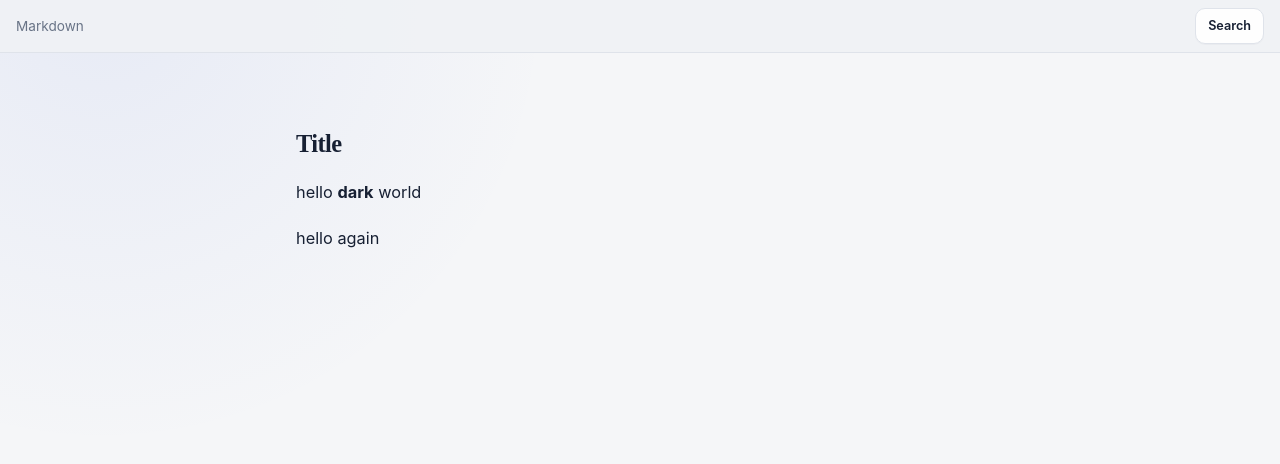
Scenario: MarkdownReader search › counts matches across inline elements and paragraphs
Press f
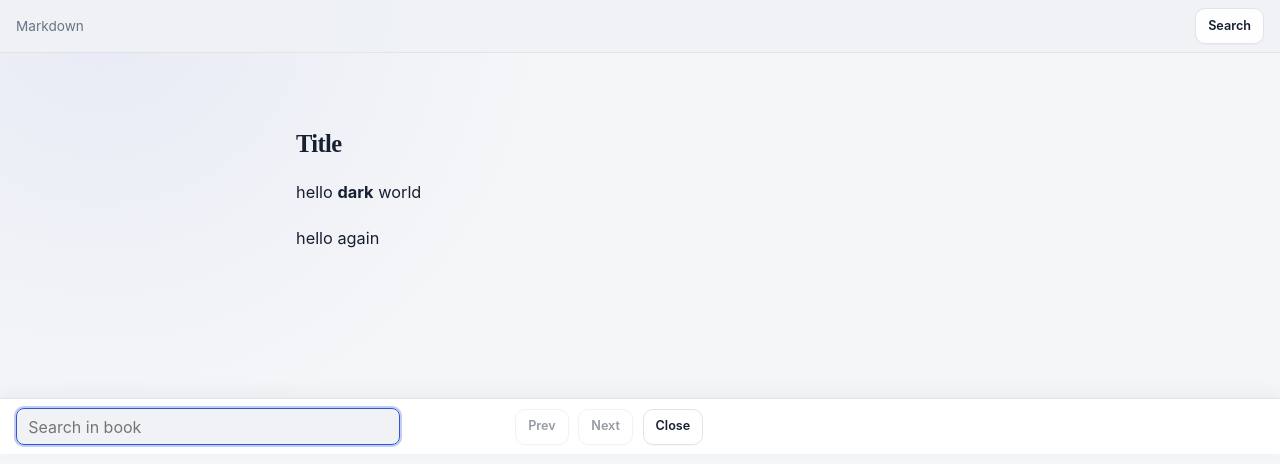
Type "hello" into the search field labelled "Search in book" at point(208, 427), box [16,408,400,445]
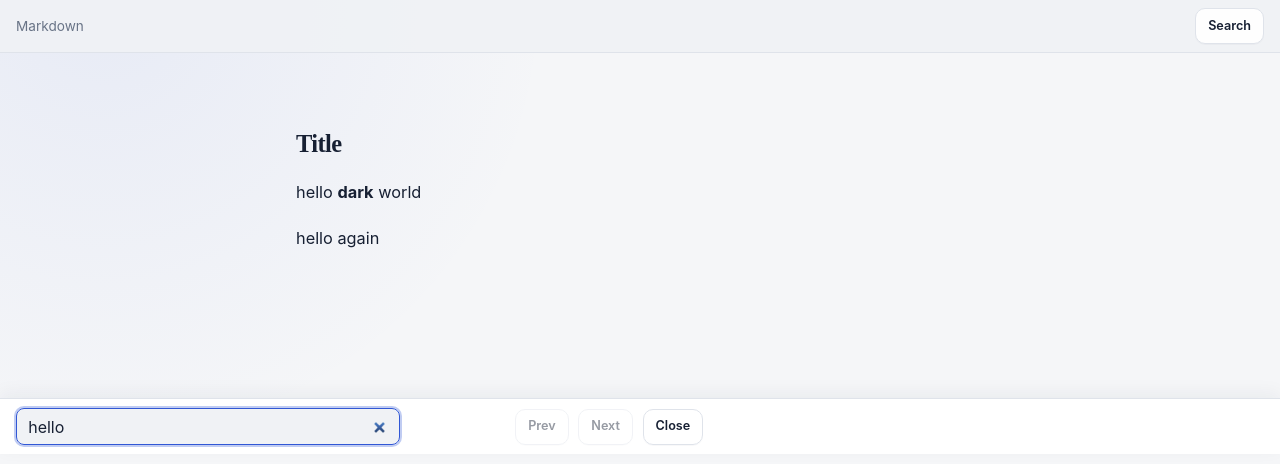
Press Enter in the search field named "Search in book", box [16,408,400,445]
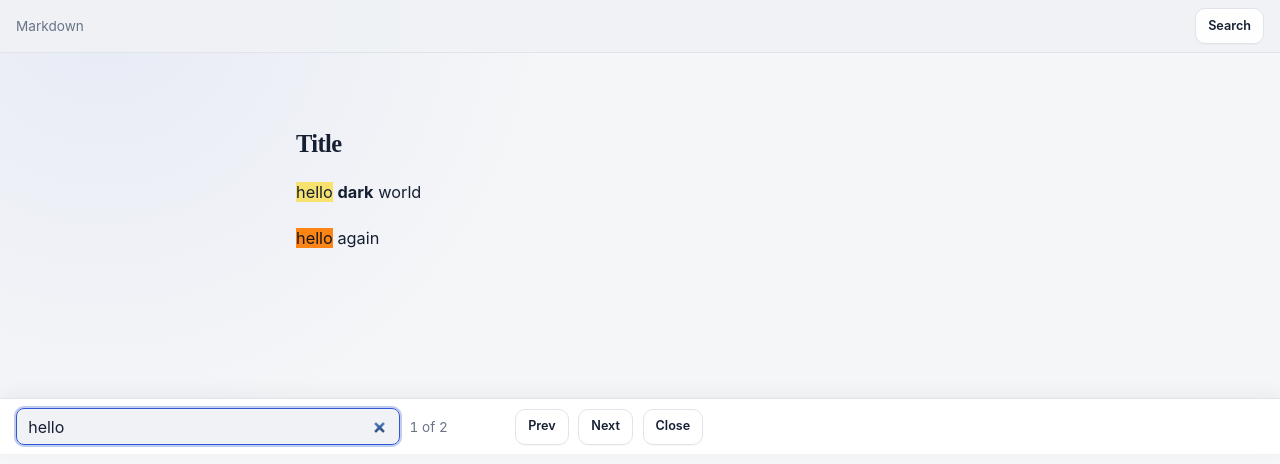
Expected: the text "1 of 2" is shown, [410,418,448,434]
